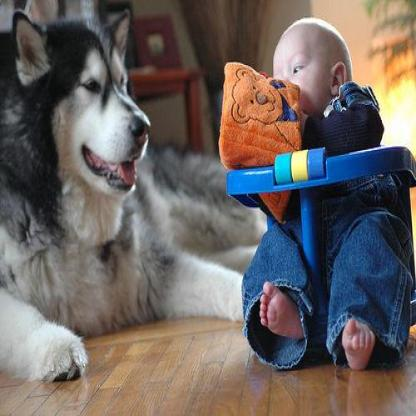malamute: (0, 7, 267, 382)
